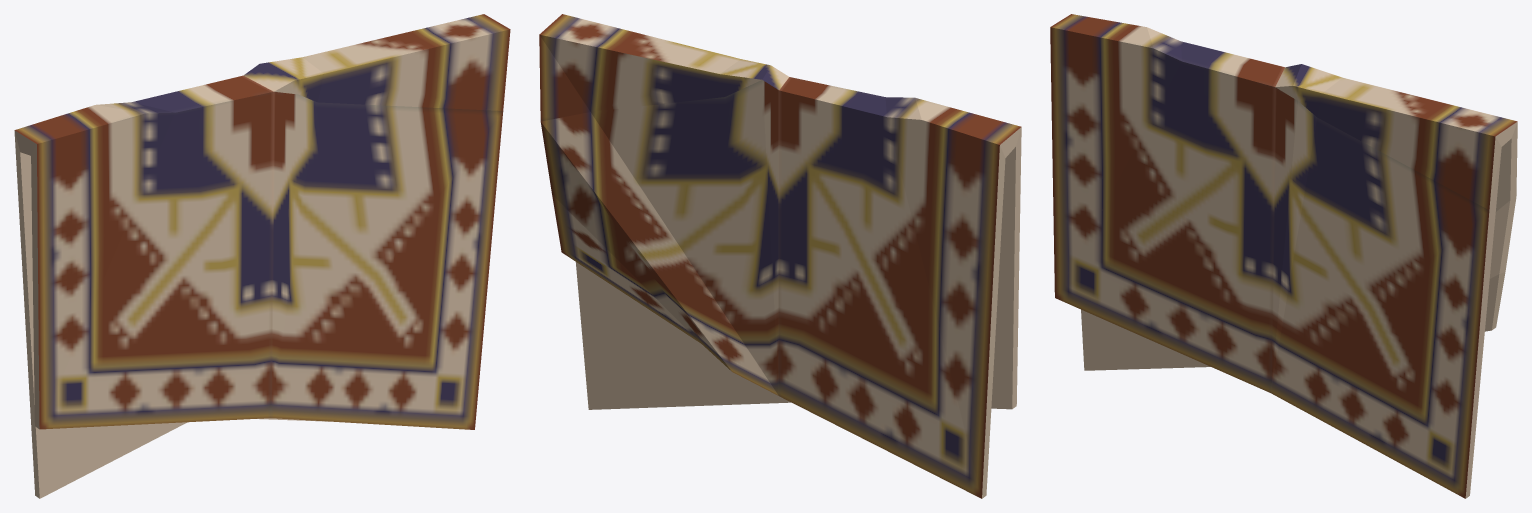
File: SM_Prop_Rug_Hanging_02.glb
3 views of the same model, side by side, from view 1: azimuth 30°, elevation 25°; view 2: azimuth 150°, elevation 25°; view 3: azimuth 330°, elevation 25° (orthographic). The views are drawn at different scales.
Visible parts, largest first — view 1: SM_Prop_Rug_Hanging_02; view 2: SM_Prop_Rug_Hanging_02; view 3: SM_Prop_Rug_Hanging_02.
Boxes of the visible parts, left/top/right/bottom form: SM_Prop_Rug_Hanging_02: left=14, top=14, right=510, bottom=498; SM_Prop_Rug_Hanging_02: left=539, top=14, right=1021, bottom=498; SM_Prop_Rug_Hanging_02: left=1050, top=14, right=1517, bottom=498.
Bounding box in the file's own units: 1.97 × 1.59 × 0.2117.
1 material, 1 textured.
